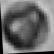correct: (0, 2, 54, 54)
